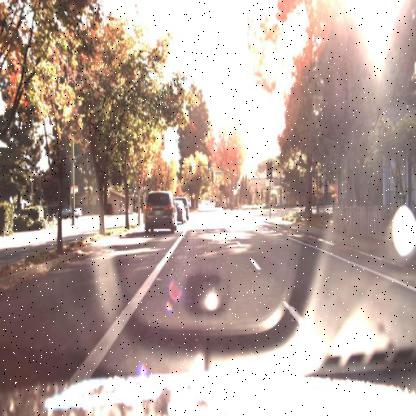car: (142, 187, 176, 238), (56, 200, 83, 219), (59, 203, 82, 219), (174, 197, 185, 226), (176, 198, 186, 224), (184, 198, 191, 223)
trafficLight: (264, 160, 272, 182)
trafficLight-Green: (267, 162, 273, 180), (207, 158, 212, 174), (206, 160, 212, 173), (188, 166, 193, 180), (132, 186, 137, 198)
trafficLight-GreenLeft: (188, 166, 194, 177)
